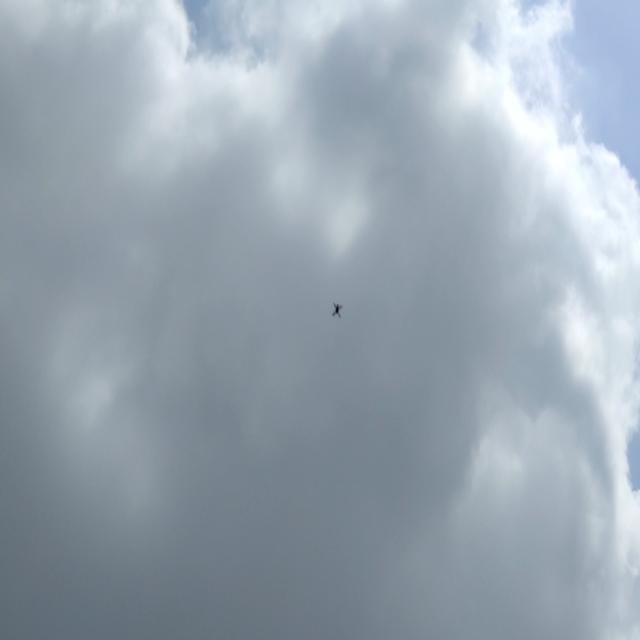drone: (328, 296, 347, 322)
